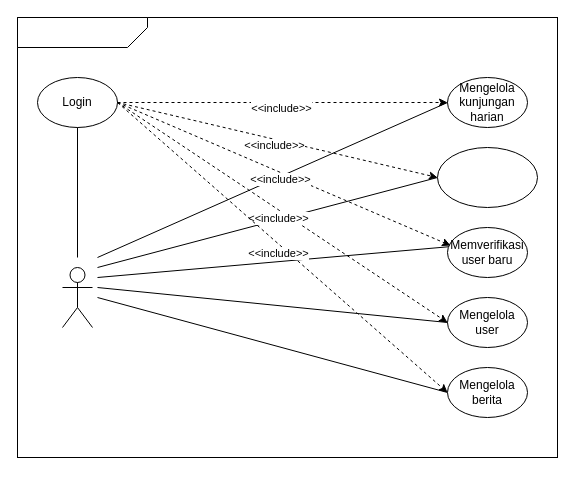
Image size: 575x483. Some labels were removed from this diagram. Here are the shapes that lost their labels. From the top down, the centre of each, then its label:
At point 82,32: "uc Use Case Admin".
At point 487,177: "Melihat semua daftar riwayat kunjungan".
At point 77,297: "admin".
